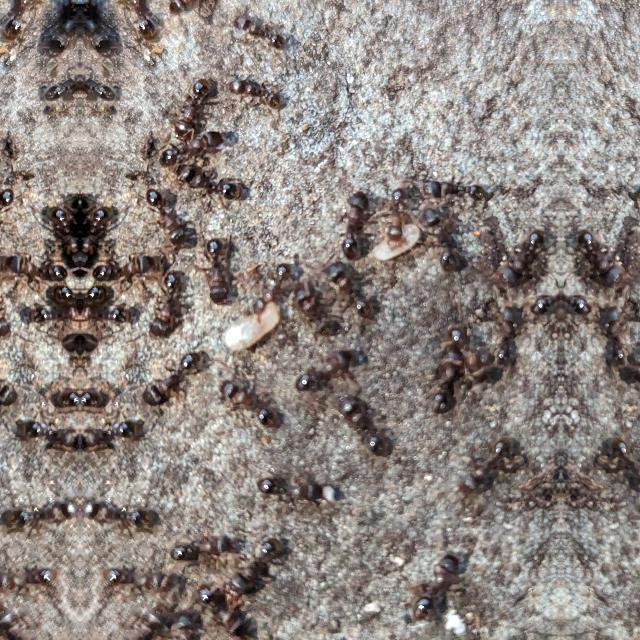Tetramorium: (399, 543, 466, 621), (335, 378, 397, 459), (446, 432, 516, 502), (566, 213, 628, 291), (254, 458, 342, 512), (494, 213, 554, 291), (408, 198, 466, 278), (138, 176, 196, 252), (326, 179, 378, 261), (416, 154, 492, 210), (322, 250, 378, 324), (142, 341, 200, 411), (197, 571, 260, 635), (88, 554, 174, 600), (228, 532, 294, 586), (238, 253, 288, 324), (78, 486, 154, 532), (154, 118, 230, 164), (5, 486, 80, 532), (375, 177, 417, 256), (478, 300, 524, 372), (219, 377, 285, 427), (287, 346, 358, 392), (164, 72, 216, 134), (162, 519, 235, 563), (596, 300, 640, 372), (79, 198, 119, 276), (39, 198, 79, 276), (0, 553, 68, 598), (449, 306, 488, 382), (78, 424, 146, 466), (12, 424, 80, 466), (421, 330, 457, 408), (220, 73, 288, 114), (172, 156, 242, 194), (32, 5, 80, 60), (78, 5, 125, 60), (92, 239, 156, 279), (2, 239, 66, 279), (604, 431, 640, 502), (200, 232, 237, 300), (142, 274, 180, 340), (290, 280, 332, 334), (231, 18, 291, 54), (78, 66, 124, 112), (34, 66, 80, 112), (111, 0, 165, 32), (522, 285, 560, 325), (561, 285, 599, 325), (0, 176, 20, 250), (0, 0, 46, 32), (0, 341, 16, 411), (0, 274, 16, 340), (632, 304, 640, 382)
